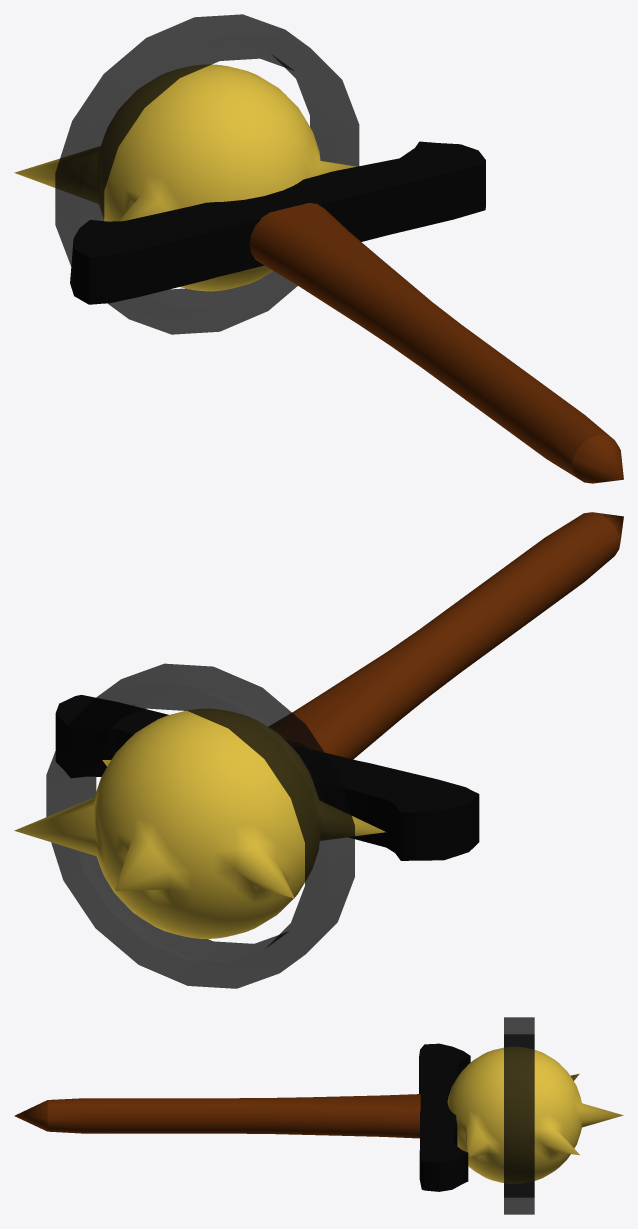
The model's file is Mace.FBX.
The picture shows the model from 3 angles, top to bottom: view 1: azimuth 30°, elevation 25°; view 2: azimuth 150°, elevation 25°; view 3: azimuth 270°, elevation 25°; orthographic projection. The views are drawn at different scales.
Parts seen in each view (by area): view 1: Sphere001, Tube001, Box001, Cylinder001; view 2: Sphere001, Tube001, Cylinder001, Box001; view 3: Sphere001, Cylinder001, Tube001, Box001.
Boxes of the visible parts, x1,y1,x2,y2 form: Sphere001: [14, 64, 356, 291]; Tube001: [55, 14, 359, 334]; Box001: [70, 141, 485, 304]; Cylinder001: [249, 203, 623, 483]; Sphere001: [14, 709, 385, 938]; Tube001: [46, 663, 354, 988]; Cylinder001: [269, 512, 623, 759]; Box001: [55, 695, 479, 860]; Sphere001: [447, 1047, 623, 1183]; Cylinder001: [14, 1094, 420, 1138]; Tube001: [504, 1017, 534, 1214]; Box001: [419, 1043, 470, 1191].
Bounding box in the file's own units: 52.62 × 36.83 × 114.
